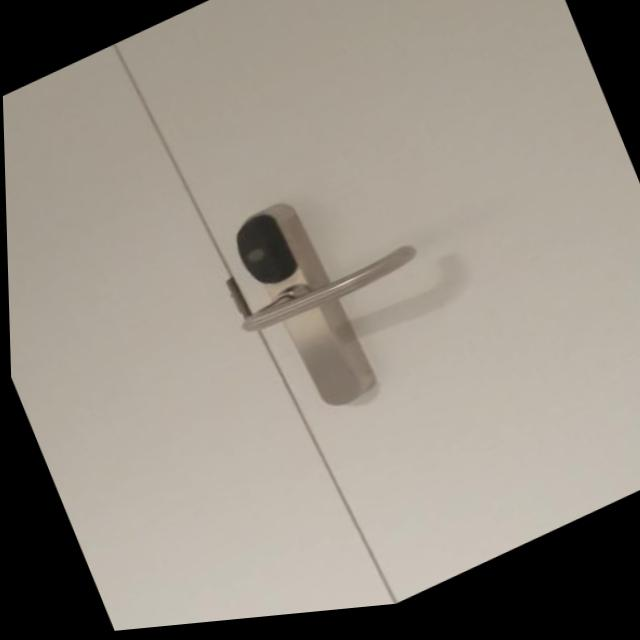door_handle: (221, 235, 428, 357)
